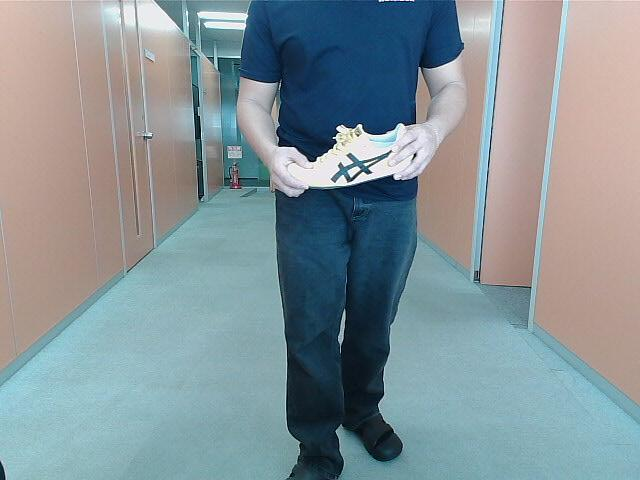Shoes: (278, 124, 416, 190)
